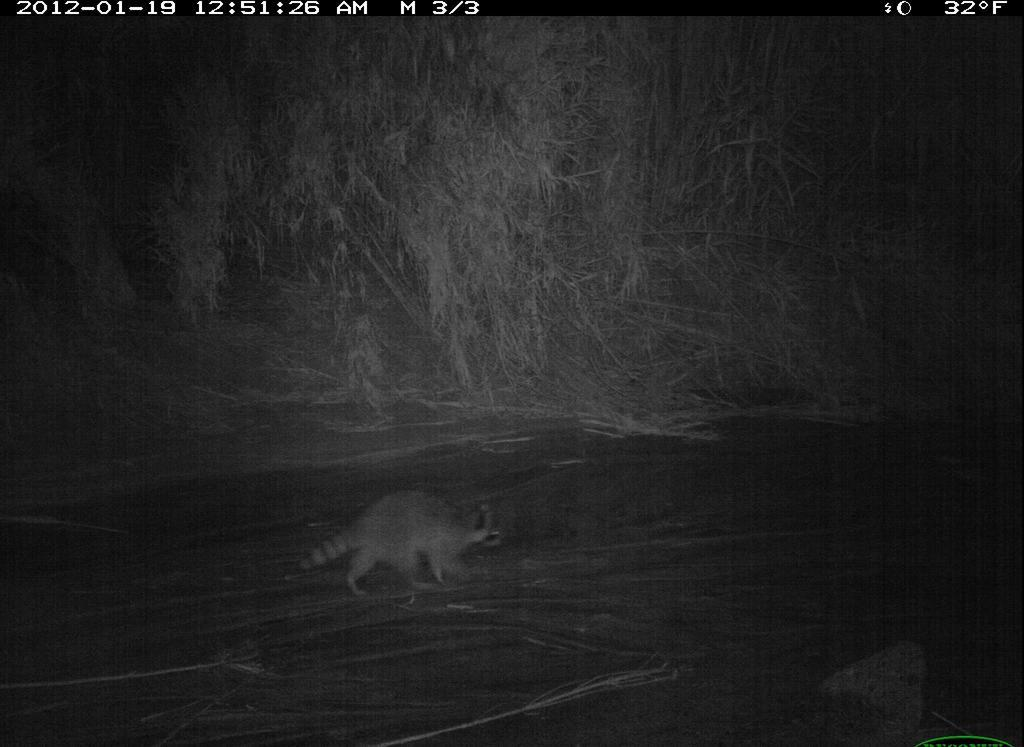raccoon: (295, 489, 501, 605)
